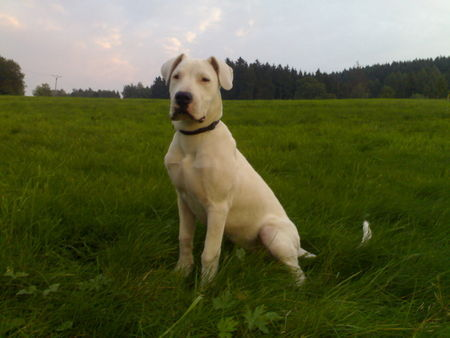dogo_argentino: (159, 52, 373, 288)
